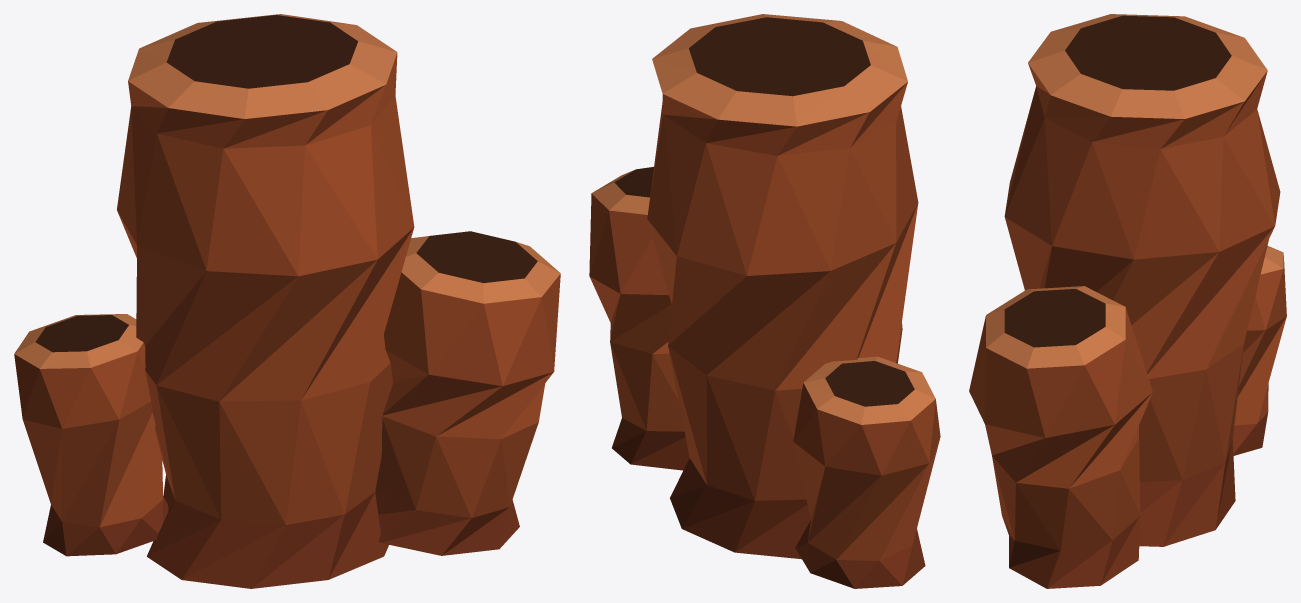
The model's file is sea_sponge.gltf.
3 views of the same model, side by side, from view 1: azimuth 30°, elevation 25°; view 2: azimuth 150°, elevation 25°; view 3: azimuth 270°, elevation 25° (orthographic). The views are drawn at different scales.
Parts seen in each view (by area): view 1: sea_sponge; view 2: sea_sponge; view 3: sea_sponge.
Part boxes in pixels (box(x1,y1,x2,y2)): sea_sponge: box(14, 14, 560, 588); sea_sponge: box(589, 14, 940, 588); sea_sponge: box(969, 14, 1286, 588).
Size of the model in its own units: 0.5457 by 0.5902 by 0.3776.
